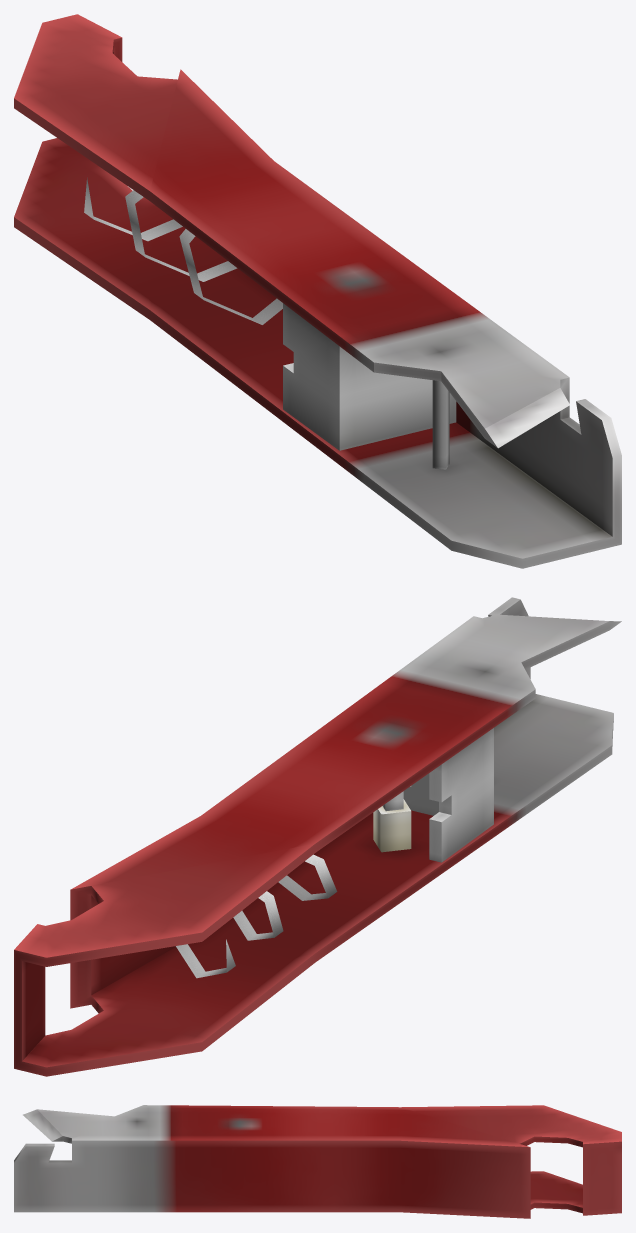
File: jsf_CanOpener.fbx
3 renders of one model, top to bottom at view 1: azimuth 30°, elevation 25°; view 2: azimuth 150°, elevation 25°; view 3: azimuth 270°, elevation 25°, orthographic. The views are drawn at different scales.
Parts seen in each view (by area): view 1: CanOpener, WineOpener; view 2: CanOpener, WineOpener; view 3: CanOpener.
Part boxes in pixels (left/top/right/bottom): CanOpener: left=14, top=14, right=621, bottom=568; WineOpener: left=84, top=177, right=282, bottom=324; CanOpener: left=14, top=597, right=621, bottom=1076; WineOpener: left=176, top=854, right=337, bottom=978; CanOpener: left=14, top=1105, right=621, bottom=1218.
Size of the model in its own units: 2.15 by 1.68 by 12.9.
